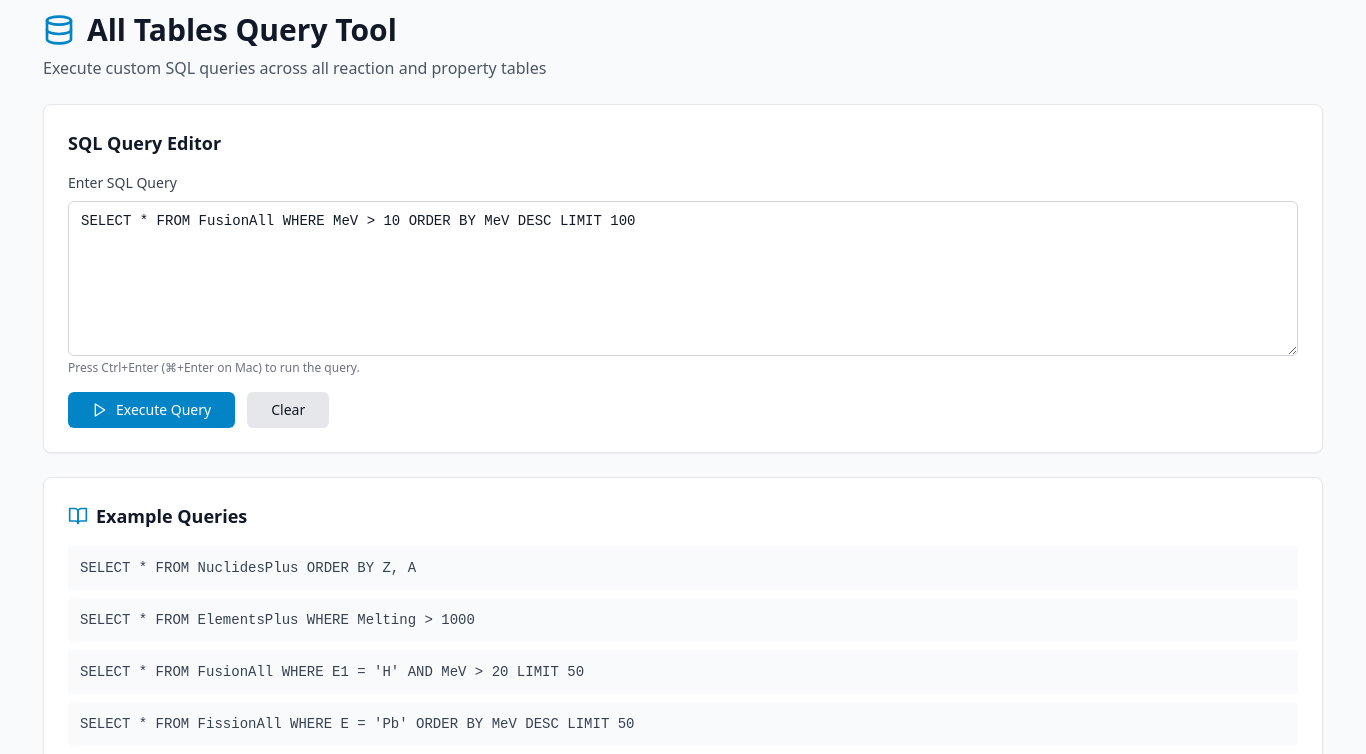
it: AllTables › clears query when clear button clicked
Step 1. Click the button "Clear" → {"x": 288, "y": 410}, box [247,392,329,428]
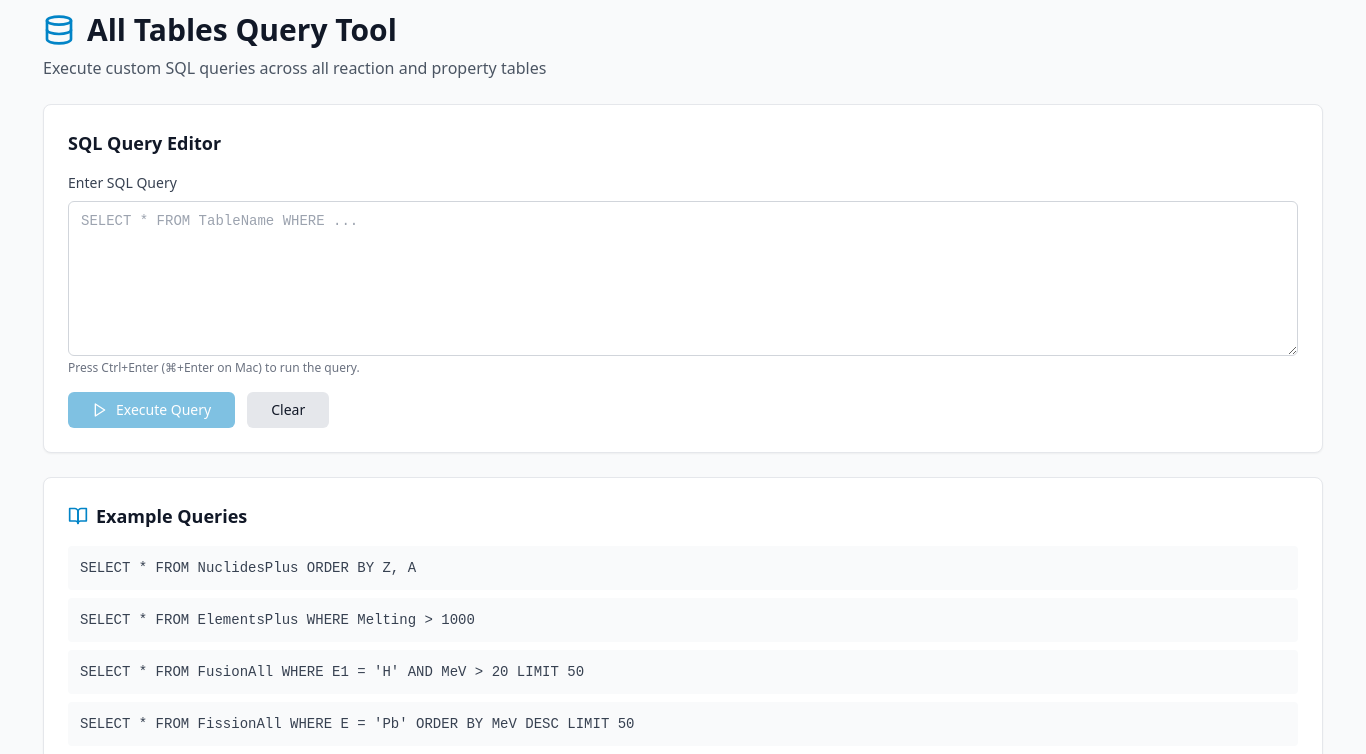
Check: the text box with placeholder "SELECT * FROM TableName WHERE ..." is empty, box [68,201,1298,356]
